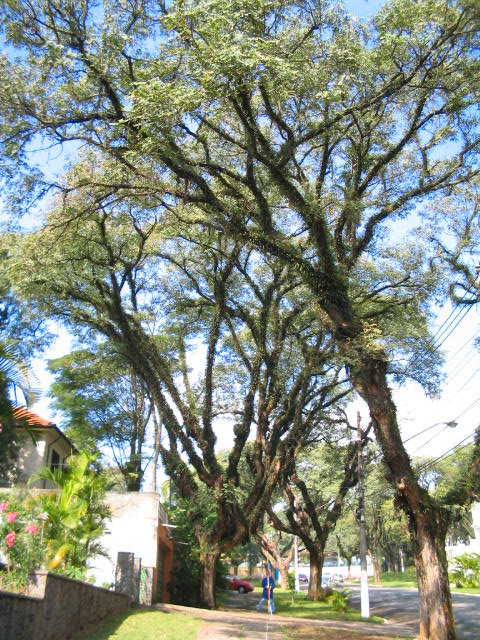crown: (8, 130, 435, 404)
stem: (188, 552, 226, 610)
stick: (261, 539, 275, 614)
tree: (5, 127, 436, 611)
